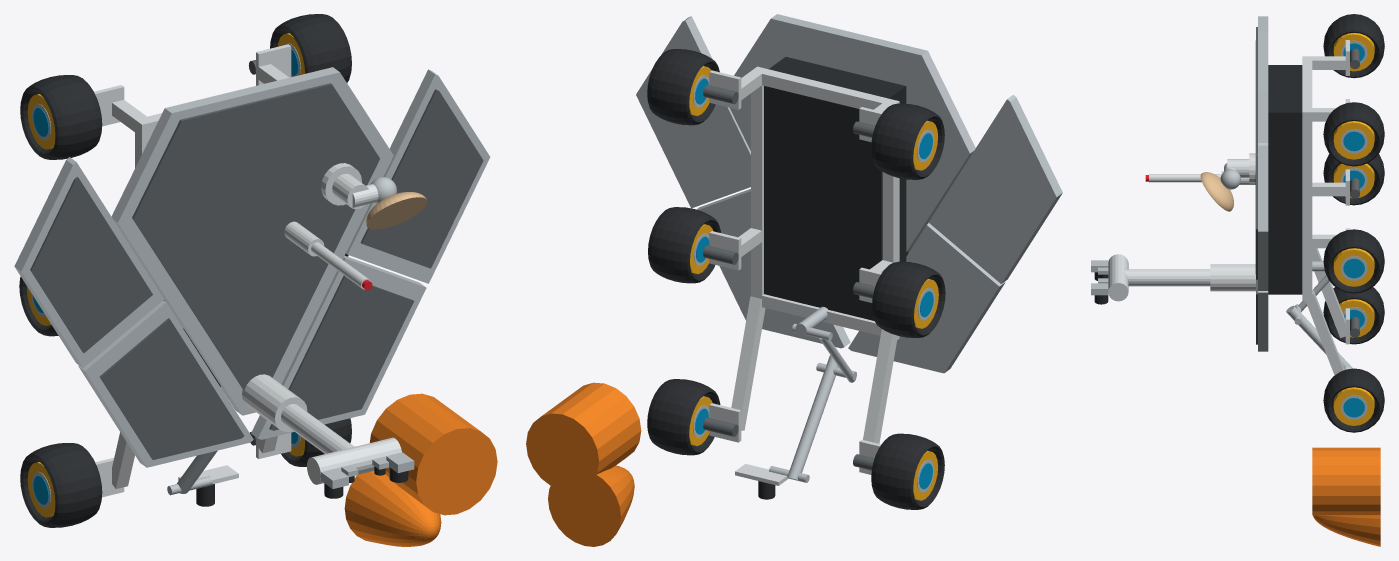
The model's file is tinker.obj.
3 renders of one model, left to right at view 1: azimuth 30°, elevation 25°; view 2: azimuth 150°, elevation 25°; view 3: azimuth 270°, elevation 25°, orthographic. The views are drawn at different scales.
Parts seen in each view (by area): view 1: group_0_6383466, group_0_12568524, group_0_2829873, group_0_16089887, group_0_14541540, group_0_16758042, group_0_14860437, group_0_40919; view 2: group_0_12568524, group_0_2829873, group_0_14541540, group_0_16089887, group_0_16758042, group_0_6383466, group_0_40919; view 3: group_0_2829873, group_0_14541540, group_0_12568524, group_0_16089887, group_0_16758042, group_0_40919, group_0_6383466, group_0_14860437.
Part boxes in pixels (x1,y1,x2,y2): group_0_6383466: [30, 60, 483, 459]; group_0_12568524: [14, 43, 490, 508]; group_0_2829873: [19, 14, 408, 527]; group_0_16089887: [344, 393, 497, 546]; group_0_14541540: [94, 44, 401, 497]; group_0_16758042: [27, 33, 304, 517]; group_0_14860437: [366, 192, 427, 229]; group_0_40919: [32, 48, 298, 504]; group_0_12568524: [636, 14, 1062, 492]; group_0_2829873: [647, 49, 945, 509]; group_0_14541540: [709, 66, 928, 485]; group_0_16089887: [526, 382, 641, 546]; group_0_16758042: [689, 66, 938, 500]; group_0_6383466: [703, 85, 875, 470]; group_0_40919: [695, 78, 933, 489]; group_0_2829873: [1094, 14, 1384, 432]; group_0_14541540: [1108, 40, 1349, 375]; group_0_12568524: [1091, 16, 1367, 419]; group_0_16089887: [1312, 447, 1380, 546]; group_0_16758042: [1333, 33, 1374, 425]; group_0_40919: [1343, 43, 1364, 417]; group_0_6383466: [1255, 27, 1359, 344]; group_0_14860437: [1200, 172, 1233, 211].
Size of the model in its own units: 126 by 132 by 86.27.
